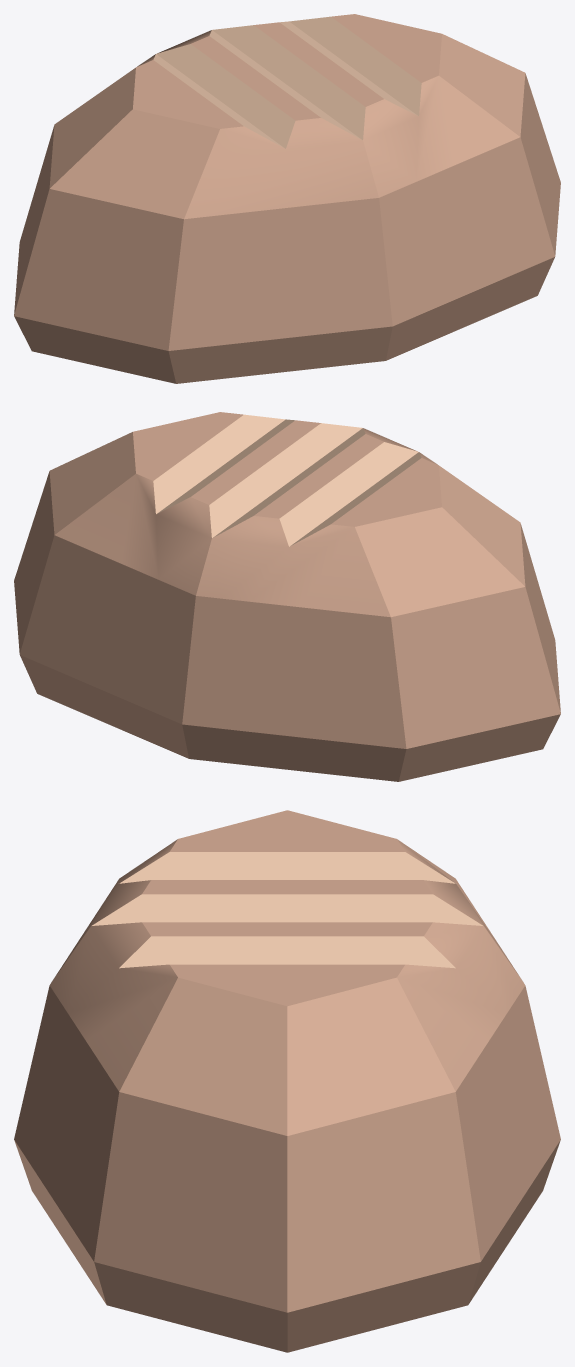
The model's file is bread.fbx.
3 views of the same model, one above another, from view 1: azimuth 30°, elevation 25°; view 2: azimuth 150°, elevation 25°; view 3: azimuth 270°, elevation 25° (orthographic). The views are drawn at different scales.
Parts seen in each view (by area): view 1: loafRound; view 2: loafRound; view 3: loafRound.
Boxes of the visible parts, x1=… form: loafRound: x1=14, y1=14, x2=560, y2=383; loafRound: x1=14, y1=412, x2=560, y2=781; loafRound: x1=14, y1=810, x2=560, y2=1352.
Bounding box in the file's own units: 77.17 × 29.32 × 51.45.
